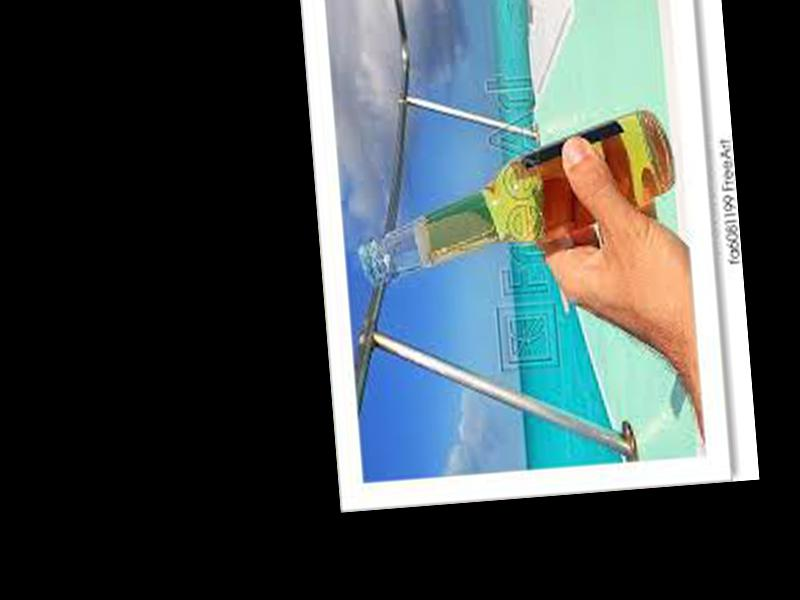Beer: (351, 106, 677, 294)
